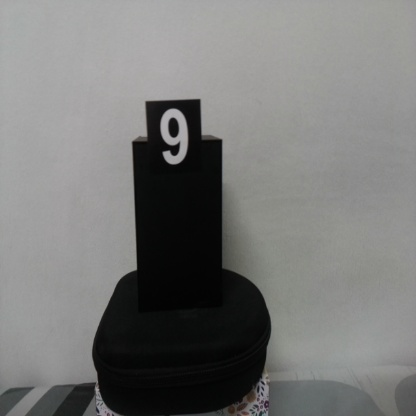id_9: (146, 102, 203, 178)
